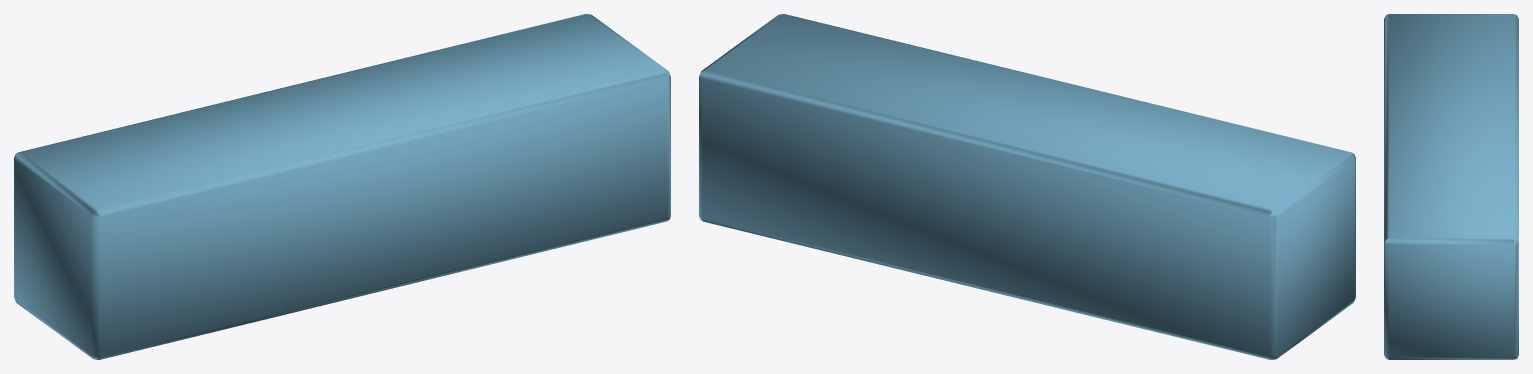
The model's file is B03_LONG_BEAM.fbx.
3 renders of one model, left to right at view 1: azimuth 30°, elevation 25°; view 2: azimuth 150°, elevation 25°; view 3: azimuth 270°, elevation 25°, orthographic. The views are drawn at different scales.
Parts seen in each view (by area): view 1: B03_LONG_BEAM; view 2: B03_LONG_BEAM; view 3: B03_LONG_BEAM.
Boxes of the visible parts, x1,y1,x2,y2 form: B03_LONG_BEAM: (14,14,670,359); B03_LONG_BEAM: (699,14,1355,359); B03_LONG_BEAM: (1384,14,1518,359).
Bounding box in the file's own units: 400 × 100 × 100.
